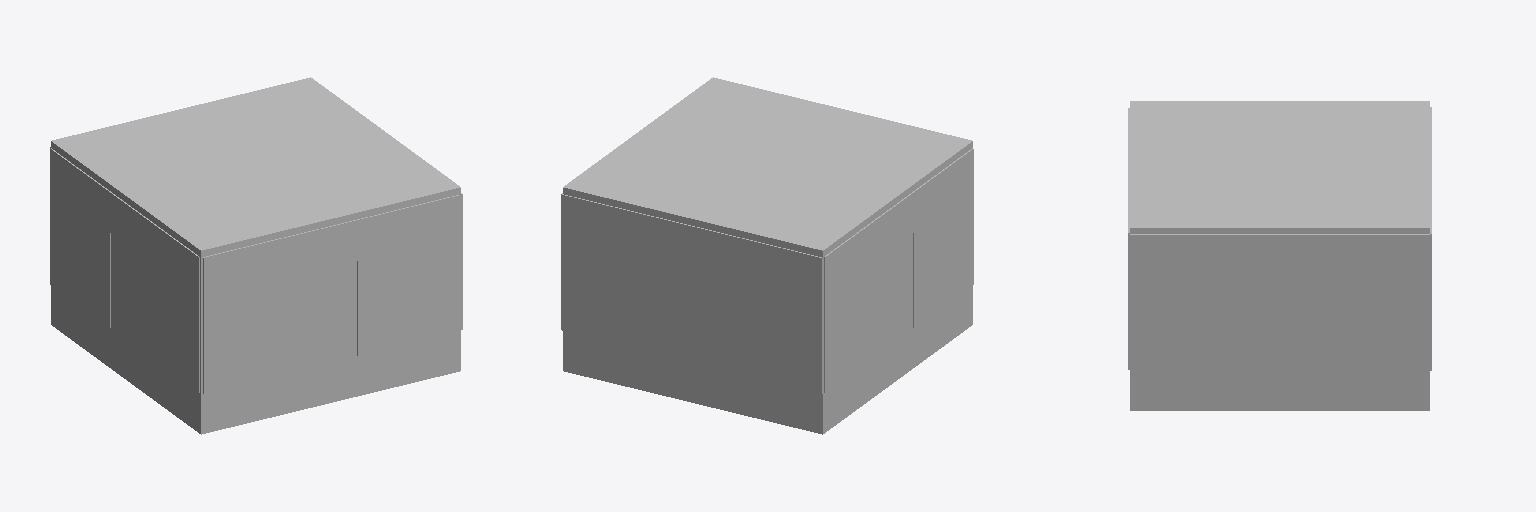
File: 1x1_hotel_room_bend_neg_x_pos_z.obj
The picture shows the model from 3 angles: view 1: azimuth 30°, elevation 25°; view 2: azimuth 150°, elevation 25°; view 3: azimuth 270°, elevation 25°; orthographic projection.
Visible parts, largest first — view 1: UCX_1x1_hotel_room_bend_neg_x_pos_z_09, UCX_1x1_hotel_room_bend_neg_x_pos_z_00, UCX_1x1_hotel_room_bend_neg_x_pos_z_03, UCX_1x1_hotel_room_bend_neg_x_pos_z_02, 1x1_hotel_room_bend_neg_x_pos_z, UCX_1x1_hotel_room_bend_neg_x_pos_z_05, UCX_1x1_hotel_room_bend_neg_x_pos_z_06, UCX_1x1_hotel_room_bend_neg_x_pos_z_04, UCX_1x1_hotel_room_bend_neg_x_pos_z_07; view 2: UCX_1x1_hotel_room_bend_neg_x_pos_z_09, UCX_1x1_hotel_room_bend_neg_x_pos_z_08, UCX_1x1_hotel_room_bend_neg_x_pos_z_00, UCX_1x1_hotel_room_bend_neg_x_pos_z_06, UCX_1x1_hotel_room_bend_neg_x_pos_z_05, 1x1_hotel_room_bend_neg_x_pos_z, UCX_1x1_hotel_room_bend_neg_x_pos_z_07; view 3: UCX_1x1_hotel_room_bend_neg_x_pos_z_01, UCX_1x1_hotel_room_bend_neg_x_pos_z_09, UCX_1x1_hotel_room_bend_neg_x_pos_z_00, UCX_1x1_hotel_room_bend_neg_x_pos_z_08.
Boxes of the visible parts, box(x1,y1,x2,y2) form: UCX_1x1_hotel_room_bend_neg_x_pos_z_09: box(51, 77, 460, 257); UCX_1x1_hotel_room_bend_neg_x_pos_z_00: box(51, 286, 460, 434); UCX_1x1_hotel_room_bend_neg_x_pos_z_03: box(203, 232, 305, 393); UCX_1x1_hotel_room_bend_neg_x_pos_z_02: box(357, 195, 459, 355); 1x1_hotel_room_bend_neg_x_pos_z: box(51, 147, 460, 394); UCX_1x1_hotel_room_bend_neg_x_pos_z_05: box(50, 148, 110, 327); UCX_1x1_hotel_room_bend_neg_x_pos_z_06: box(140, 214, 199, 392); UCX_1x1_hotel_room_bend_neg_x_pos_z_04: box(305, 220, 357, 272); UCX_1x1_hotel_room_bend_neg_x_pos_z_07: box(110, 192, 140, 254); UCX_1x1_hotel_room_bend_neg_x_pos_z_09: box(563, 77, 972, 257); UCX_1x1_hotel_room_bend_neg_x_pos_z_08: box(562, 194, 822, 393); UCX_1x1_hotel_room_bend_neg_x_pos_z_00: box(563, 286, 972, 434); UCX_1x1_hotel_room_bend_neg_x_pos_z_06: box(913, 148, 973, 327); UCX_1x1_hotel_room_bend_neg_x_pos_z_05: box(824, 214, 883, 392); 1x1_hotel_room_bend_neg_x_pos_z: box(563, 147, 972, 394); UCX_1x1_hotel_room_bend_neg_x_pos_z_07: box(883, 192, 913, 254); UCX_1x1_hotel_room_bend_neg_x_pos_z_01: box(1130, 234, 1429, 370); UCX_1x1_hotel_room_bend_neg_x_pos_z_09: box(1130, 101, 1429, 233); UCX_1x1_hotel_room_bend_neg_x_pos_z_00: box(1130, 371, 1429, 410); UCX_1x1_hotel_room_bend_neg_x_pos_z_08: box(1430, 107, 1431, 370).
Size of the model in its own units: 20.2 by 13.5 by 20.2.